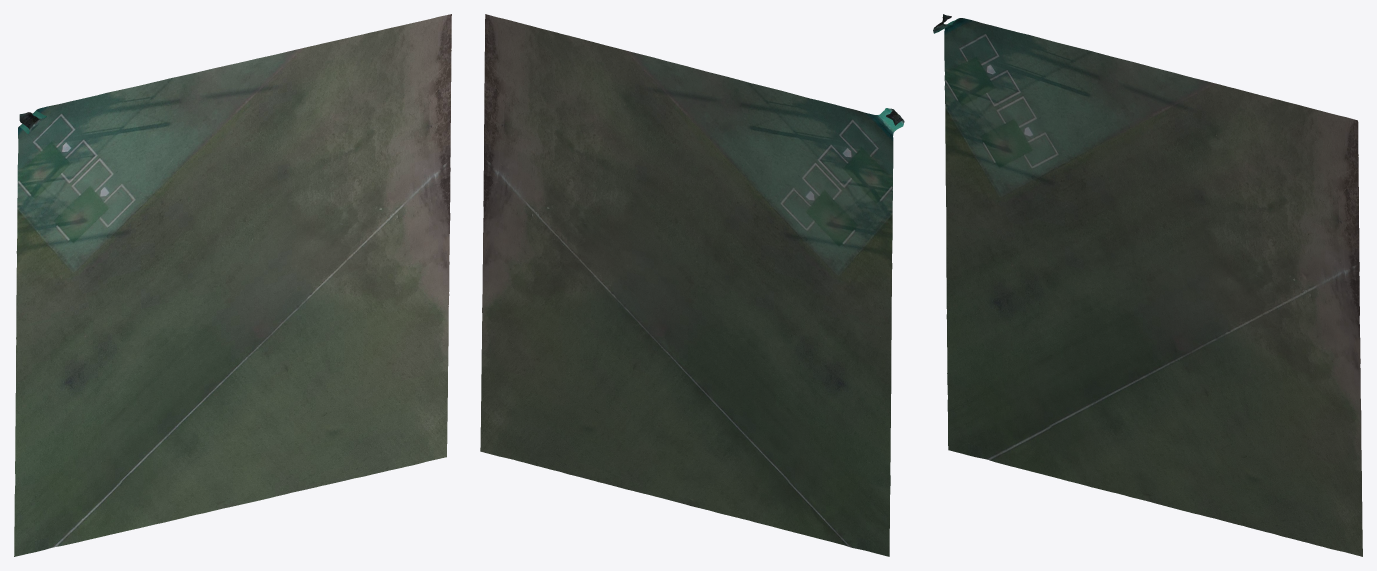
The model's file is Tile_+014_+008.fbx.
3 views of the same model, side by side, from view 1: azimuth 30°, elevation 25°; view 2: azimuth 150°, elevation 25°; view 3: azimuth 330°, elevation 25° (orthographic). The views are drawn at different scales.
Visible parts, largest first — view 1: DefaultName; view 2: DefaultName; view 3: DefaultName.
Boxes of the visible parts, box(x1,y1,x2,y2) form: DefaultName: box(14, 14, 451, 556); DefaultName: box(480, 14, 904, 556); DefaultName: box(933, 14, 1362, 556).
Bounding box in the file's own units: 22.54 × 22.54 × 1.46.
